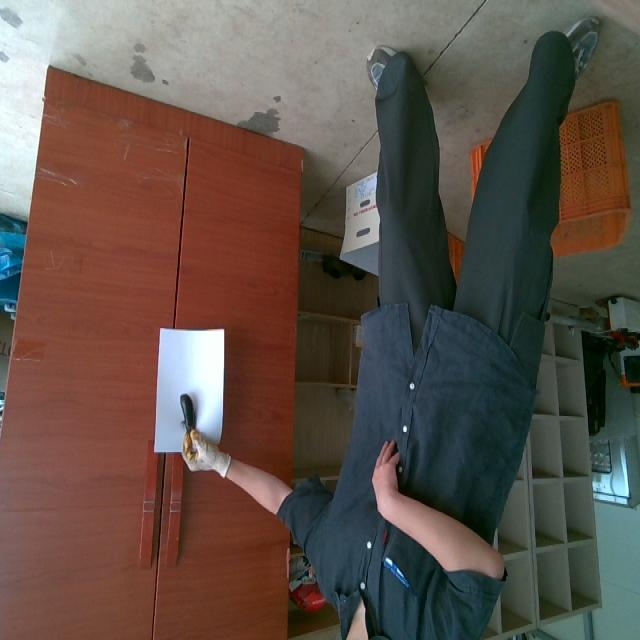Egg plant: (180, 396, 195, 433)
